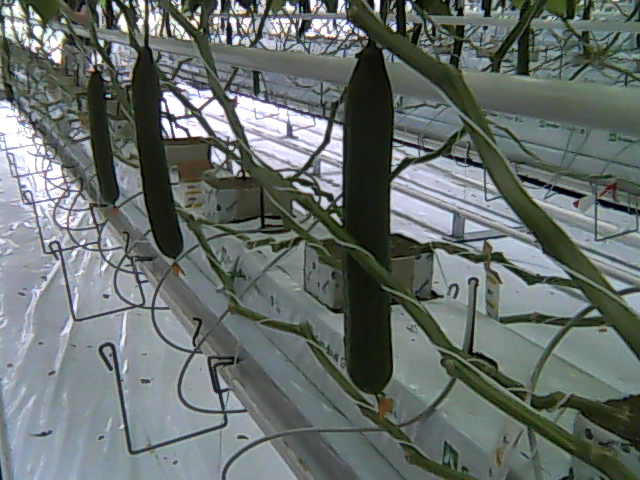concombre: (339, 34, 396, 423), (128, 38, 188, 281)
